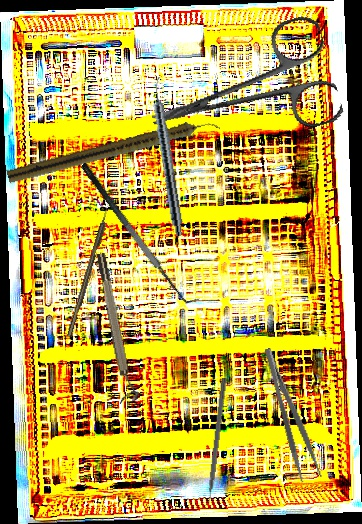Chopper: (197, 376, 228, 511)
Dressing Forceps: (260, 343, 324, 484)
Fixation Ring: (94, 251, 140, 404)
Handpiece: (6, 114, 221, 188), (148, 76, 188, 237)
Hook Surgical: (66, 205, 112, 337)
Iris Scissors: (136, 12, 346, 170)
Spatula Surgical: (78, 153, 201, 313)
